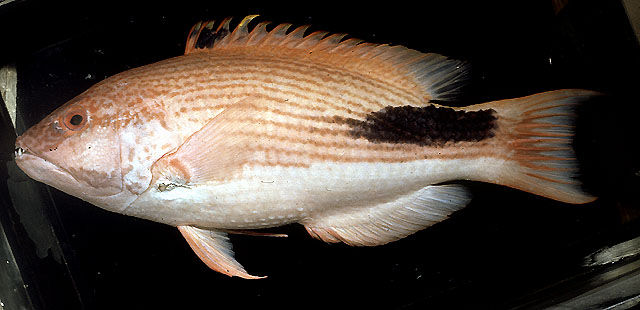fish: (16, 16, 596, 283)
